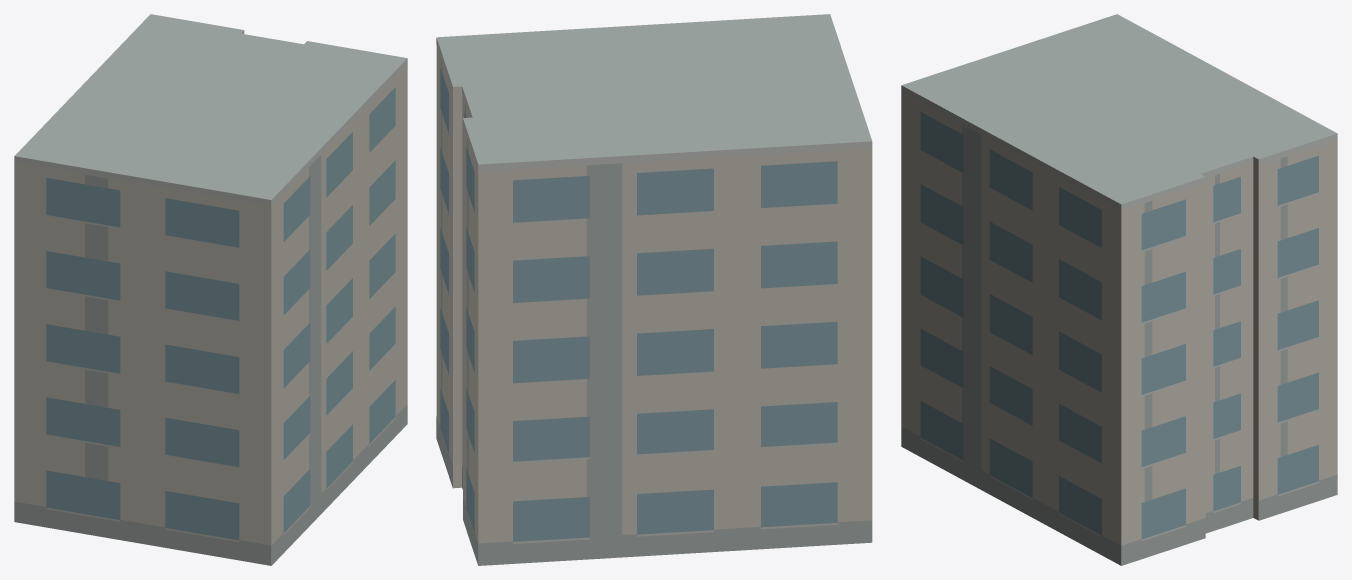
The model's file is residential-22b91da1-c4f6-4454-af7e-f2f0bf4194b3.glb.
3 views of the same model, side by side, from view 1: azimuth 30°, elevation 25°; view 2: azimuth 150°, elevation 25°; view 3: azimuth 270°, elevation 25° (orthographic). The views are drawn at different scales.
Visible parts, largest first — view 1: residential-22b91da1-c4f6-4454-af7e-f2f0bf4194b3.tmp; view 2: residential-22b91da1-c4f6-4454-af7e-f2f0bf4194b3.tmp; view 3: residential-22b91da1-c4f6-4454-af7e-f2f0bf4194b3.tmp.
Boxes of the visible parts, left/top/right/bottom form: residential-22b91da1-c4f6-4454-af7e-f2f0bf4194b3.tmp: left=14, top=14, right=407, bottom=565; residential-22b91da1-c4f6-4454-af7e-f2f0bf4194b3.tmp: left=436, top=14, right=872, bottom=565; residential-22b91da1-c4f6-4454-af7e-f2f0bf4194b3.tmp: left=901, top=14, right=1337, bottom=565.
Bounding box in the file's own units: 15.61 × 13.8 × 15.1.
